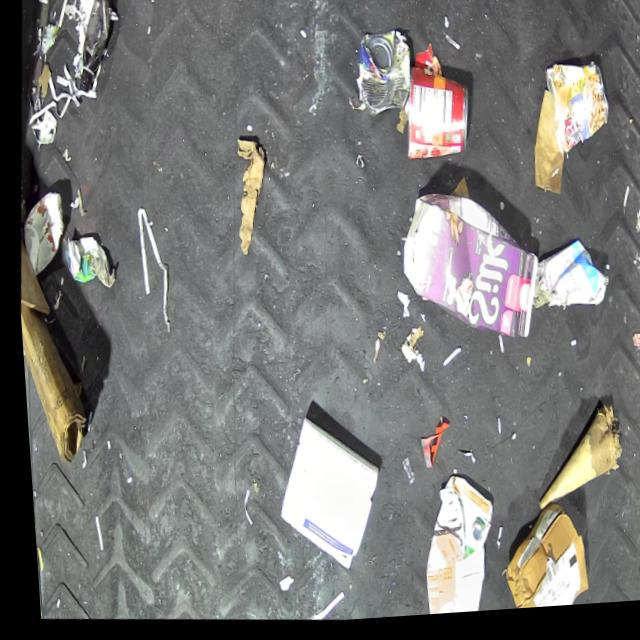can: (537, 67, 612, 167), (399, 70, 473, 171), (349, 30, 416, 126), (14, 183, 65, 279)
non_white_jug: (391, 188, 543, 353), (410, 479, 494, 620)
